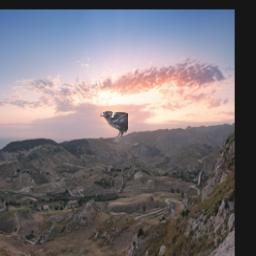Crow: (101, 111, 129, 144)
